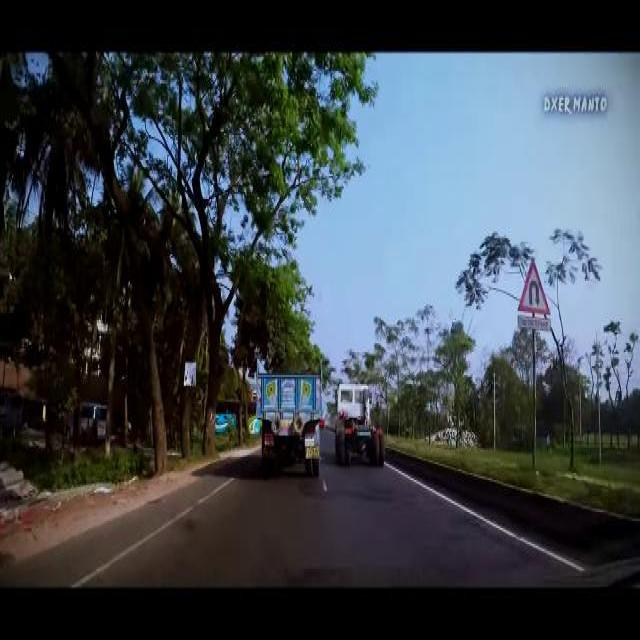bus: (213, 398, 261, 434)
truck: (254, 355, 322, 477), (333, 382, 385, 464)
